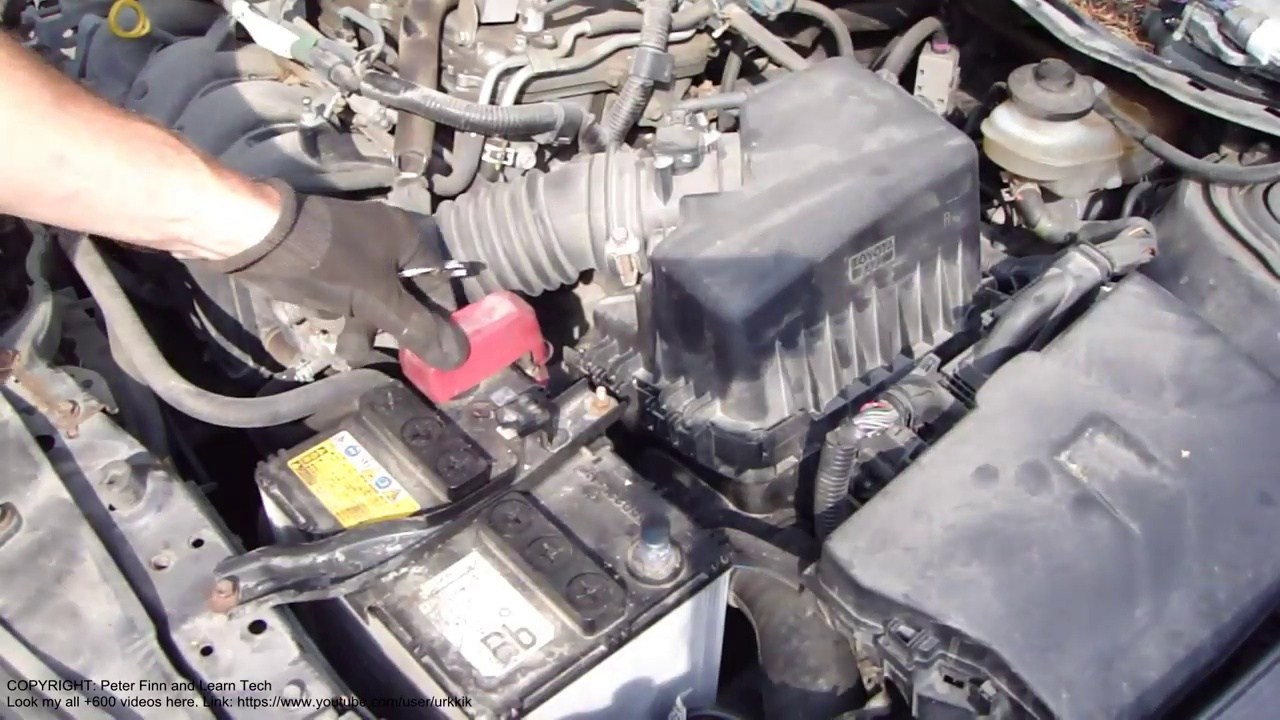battery: (248, 348, 730, 680)
neg_disconnected: (602, 461, 701, 588)
pos_touched: (281, 200, 559, 390)
